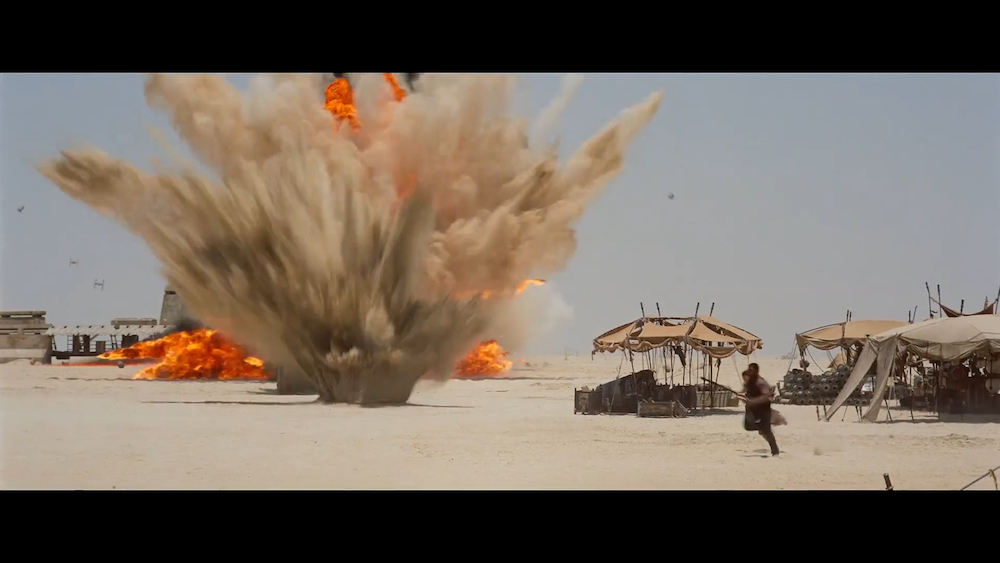Tie Fighter: (94, 279, 105, 291), (71, 260, 79, 268)
